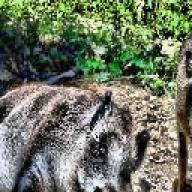boar: (0, 79, 150, 192), (171, 31, 192, 192)
